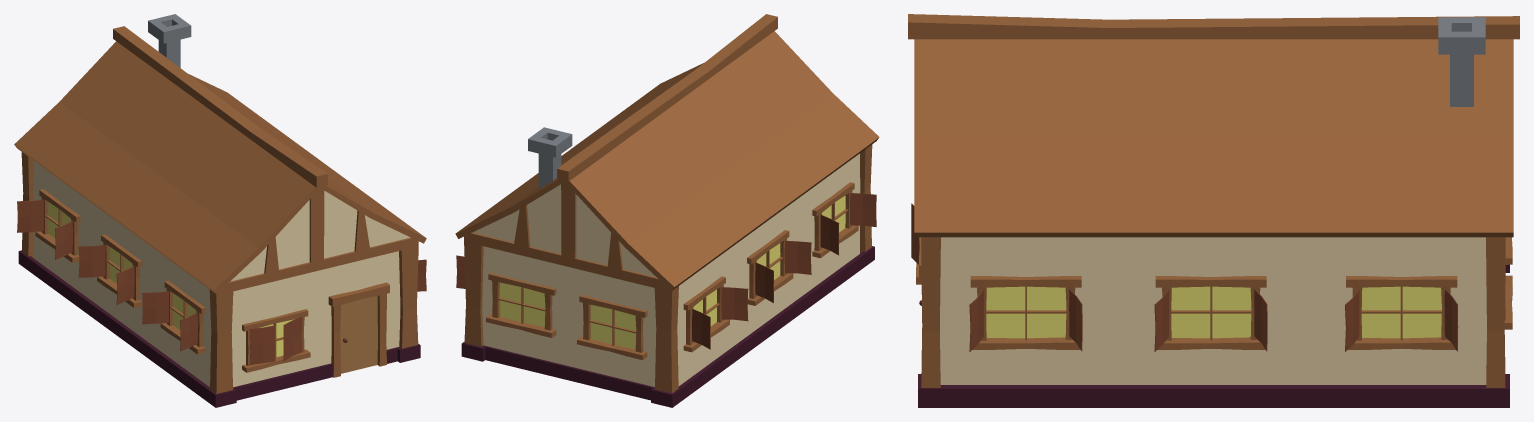
The model's file is House_03.fbx.
3 renders of one model, left to right at view 1: azimuth 30°, elevation 25°; view 2: azimuth 150°, elevation 25°; view 3: azimuth 270°, elevation 25°, orthographic. The views are drawn at different scales.
Visible parts, largest first — view 1: House_03; view 2: House_03; view 3: House_03.
Boxes of the visible parts, box(x1,y1,x2,y2) form: House_03: box(14, 14, 426, 407); House_03: box(455, 14, 879, 407); House_03: box(908, 14, 1519, 407).
Size of the model in its own units: 747 by 632 by 1065.
